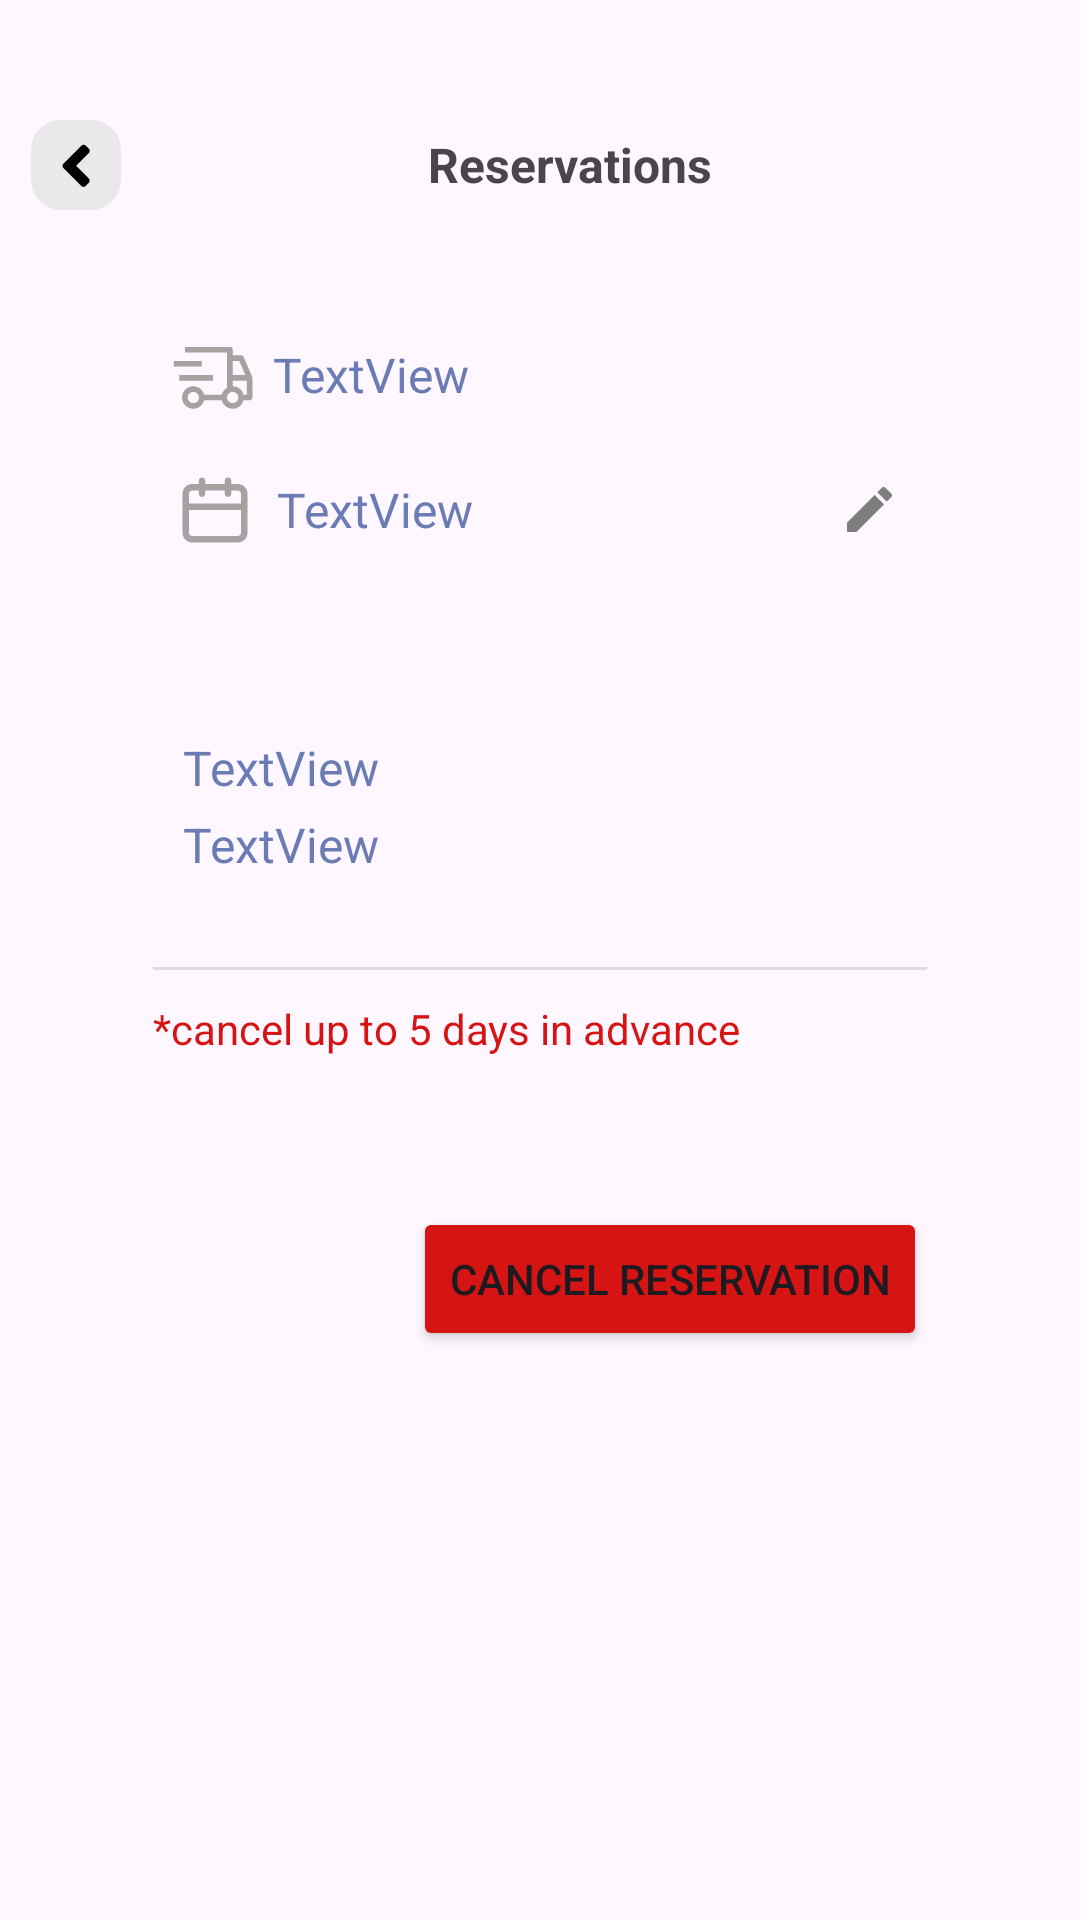

Where icons sit on this 1080 × 1920 app screen, as (x1, y1, x2, y2):
back: (62, 144, 90, 187)
carbon delivery: (174, 347, 253, 409)
edit: (847, 487, 892, 532)
uil calender: (182, 477, 248, 543)
